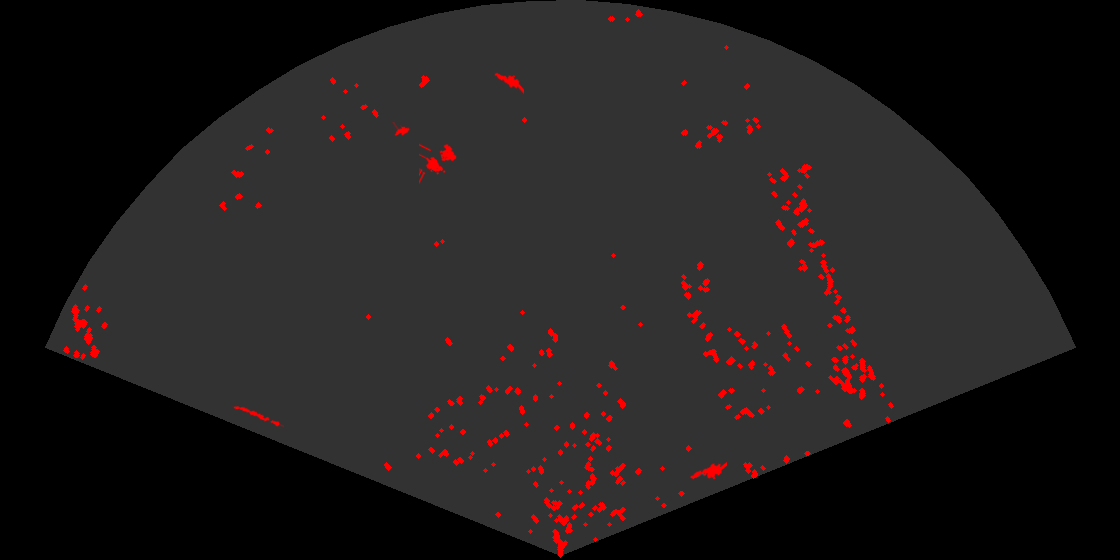AUV: (391, 122, 411, 138)
cage: (419, 142, 458, 185)
chain: (232, 404, 284, 429)
frogman: (689, 460, 727, 481), (493, 71, 524, 95)
